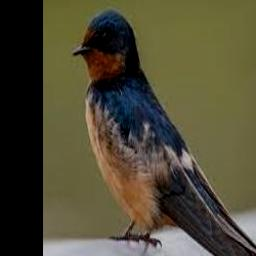Swallow: (74, 8, 256, 256)
